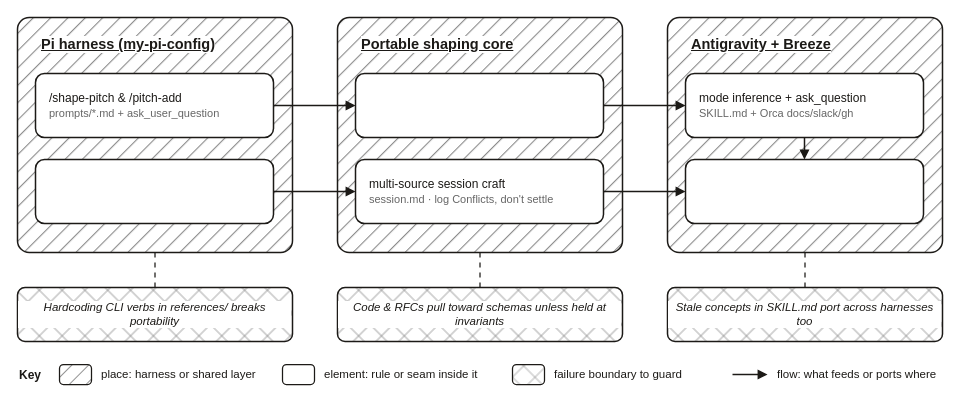
This 968x405 diagram has some shape labels left out. The shapes that lost their labels are listed below. From the top down, each one's box as (x1, y1, x2, y2) in pixels, then its label:
(354, 72, 604, 138): 5-step spine & non-UI rules shape-up.md + non-ui.md invariants
(34, 158, 274, 224): authored & versioned in git commit 1cb9d66 · thin CLI seam
(684, 158, 924, 224): save .md pitches to Obsidian dogfooded 3x on reubenpeterpaul.com
